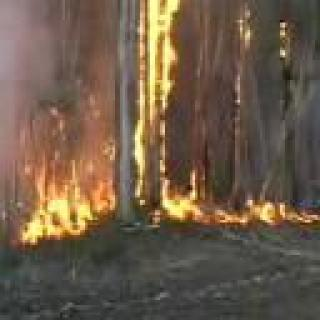fire: (17, 140, 320, 226), (139, 0, 174, 130), (229, 5, 256, 84), (272, 15, 296, 70)
